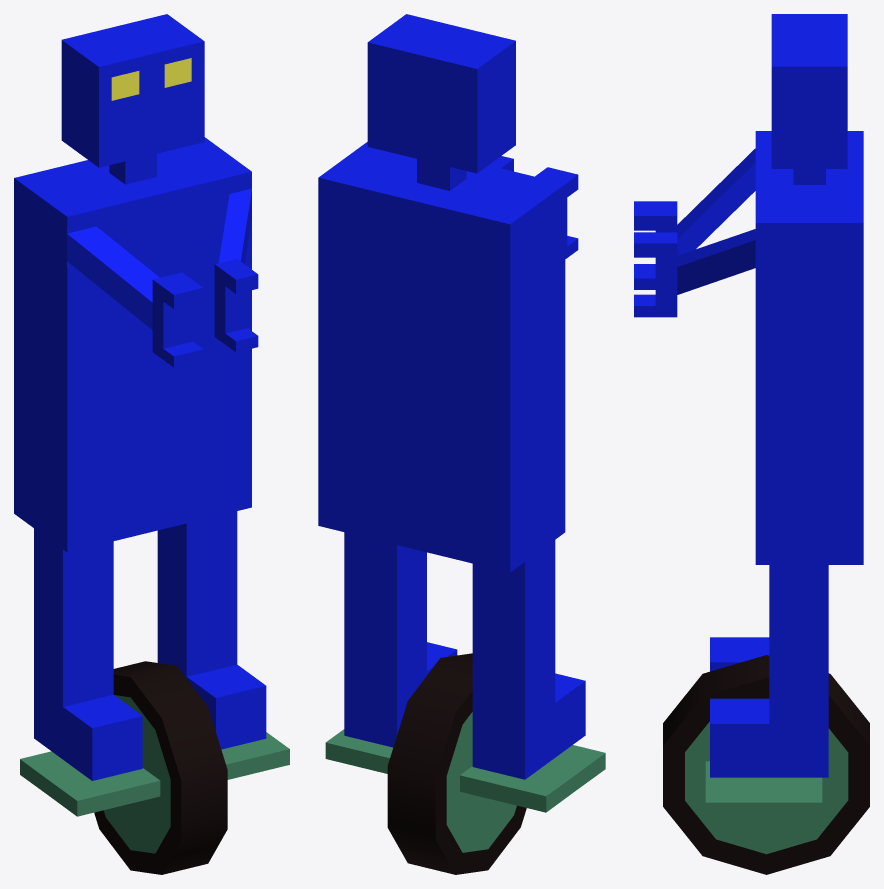
File: segway_one_003.FBX
The picture shows the model from 3 angles, left to right: view 1: azimuth 30°, elevation 25°; view 2: azimuth 150°, elevation 25°; view 3: azimuth 270°, elevation 25°; orthographic projection. The views are drawn at different scales.
Parts seen in each view (by area): view 1: SegBody, SegTire, SegRLeg_L, SegRLeg_R; view 2: SegBody, SegTire, SegRLeg_L, SegRLeg_R; view 3: SegBody, SegTire, SegRLeg_R, SegRLeg_L.
Part boxes in pixels (x1,y1,x2,y2): SegBody: (14,14,258,552); SegTire: (20,661,289,874); SegRLeg_L: (34,528,142,780); SegRLeg_R: (157,511,266,749); SegBody: (318,14,578,572); SegTire: (325,653,605,874); SegRLeg_L: (472,540,585,779); SegRLeg_R: (344,532,457,747); SegBody: (634,14,863,564); SegTire: (663,655,869,874); SegRLeg_R: (710,565,828,777); SegRLeg_L: (710,637,769,671).
Size of the model in its own units: 9.06 by 32.91 by 8.54.
